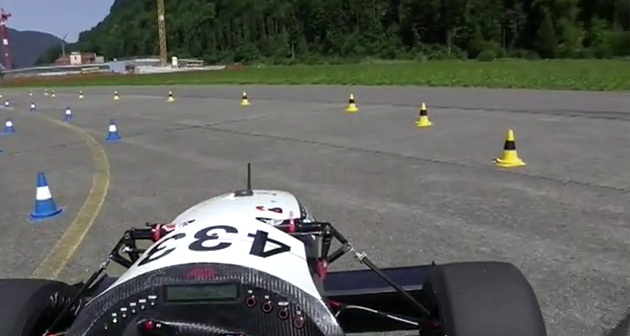Cone: (26, 172, 67, 221), (494, 130, 528, 168), (105, 118, 126, 142), (413, 102, 433, 127), (344, 90, 359, 112), (239, 90, 252, 106)
